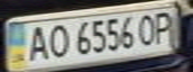5: (90, 17, 109, 54), (106, 16, 124, 52)
6: (72, 19, 93, 56), (118, 15, 139, 49)
A: (21, 22, 51, 61)
O: (42, 21, 72, 60), (136, 11, 160, 47)
P: (148, 9, 181, 44)
